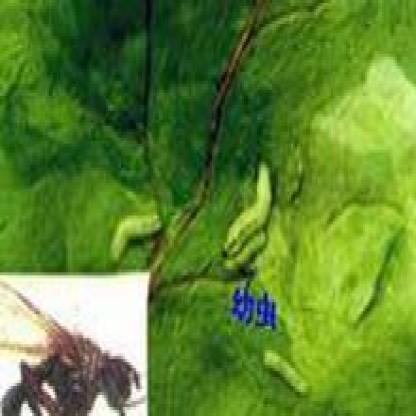whorl-maggot: (219, 150, 274, 275), (102, 195, 172, 264), (264, 342, 314, 404)
